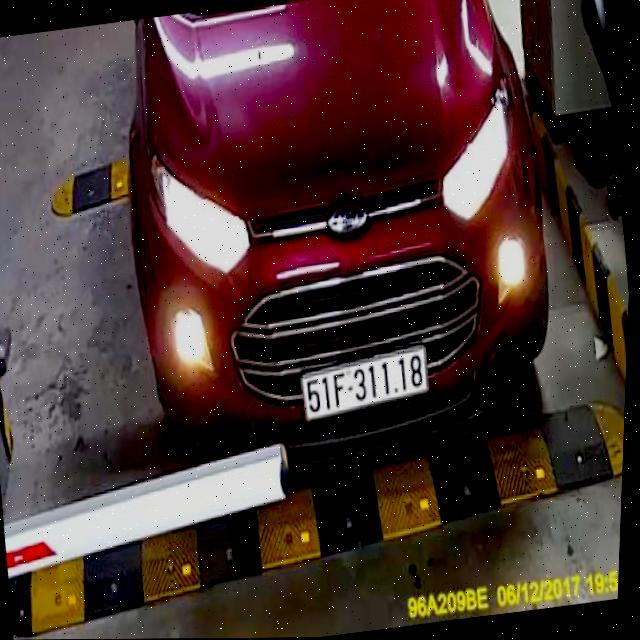car: (93, 0, 589, 494)
plate: (292, 345, 443, 424)
